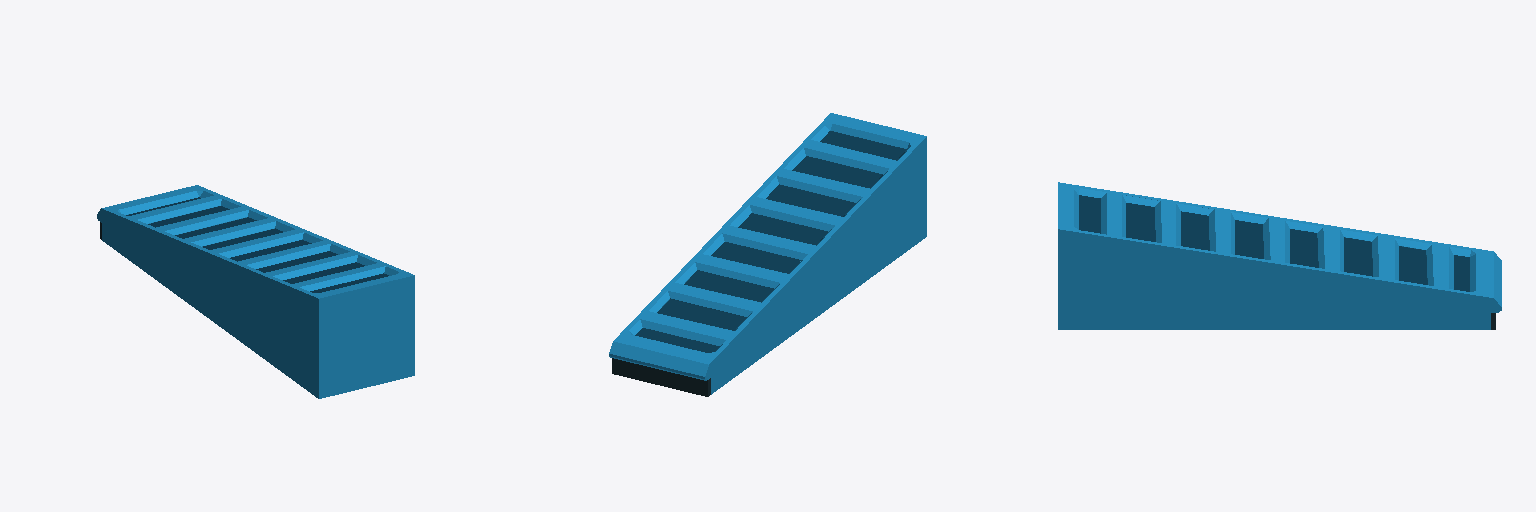
File: Spacestation_Structure_Fuselage_Long_Angled_Mid_Vented.obj
The picture shows the model from 3 angles: view 1: azimuth 30°, elevation 25°; view 2: azimuth 150°, elevation 25°; view 3: azimuth 270°, elevation 25°; orthographic projection.
Visible parts, largest first — view 1: object3, object1; view 2: object3, object1, object2; view 3: object3, object1.
Boxes of the visible parts, box(x1,y1,x2,y2) form: object3: box(97, 185, 414, 398); object1: box(126, 197, 388, 292); object3: box(609, 113, 926, 394); object1: box(635, 131, 906, 352); object2: box(612, 358, 710, 396); object3: box(1058, 182, 1501, 329); object1: box(1079, 195, 1469, 291).
Size of the model in its own units: 1 by 1 by 4.